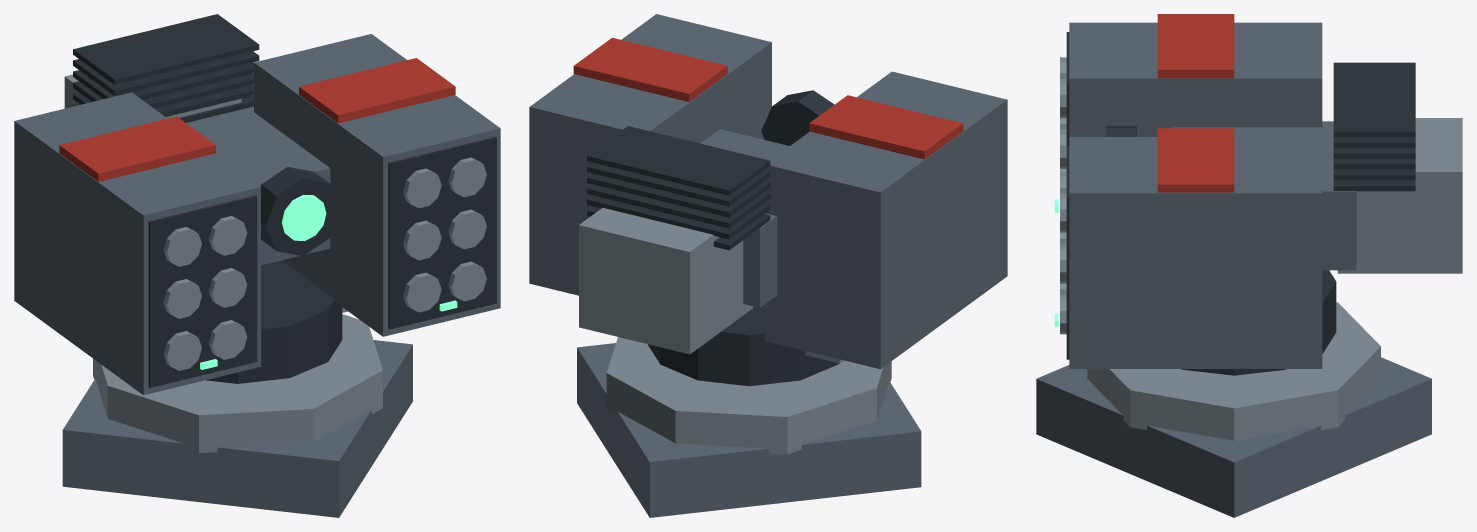
The model's file is quiver_t2_d0.meshopt.glb.
3 views of the same model, side by side, from view 1: azimuth 30°, elevation 25°; view 2: azimuth 150°, elevation 25°; view 3: azimuth 270°, elevation 25° (orthographic). The views are drawn at different scales.
Visible parts, largest first — view 1: RECOIL_ARMOR_GEOMETRY, BASE_ARMOR_GEOMETRY, YAW_ARMOR_GEOMETRY, RECOIL_SIGNAL_GEOMETRY; view 2: RECOIL_ARMOR_GEOMETRY, BASE_ARMOR_GEOMETRY, YAW_ARMOR_GEOMETRY; view 3: RECOIL_ARMOR_GEOMETRY, BASE_ARMOR_GEOMETRY, YAW_ARMOR_GEOMETRY.
Part boxes in pixels (x1,y1,x2,y2): RECOIL_ARMOR_GEOMETRY: (14,14,500,395); BASE_ARMOR_GEOMETRY: (62,314,412,517); YAW_ARMOR_GEOMETRY: (206,260,347,383); RECOIL_SIGNAL_GEOMETRY: (200,194,457,369); RECOIL_ARMOR_GEOMETRY: (529,14,1007,369); BASE_ARMOR_GEOMETRY: (577,337,921,517); YAW_ARMOR_GEOMETRY: (647,304,843,386); RECOIL_ARMOR_GEOMETRY: (1060,14,1462,368); BASE_ARMOR_GEOMETRY: (1036,302,1431,517); YAW_ARMOR_GEOMETRY: (1181,270,1336,375).
Size of the model in its own units: 1.58 by 1.46 by 1.67.
